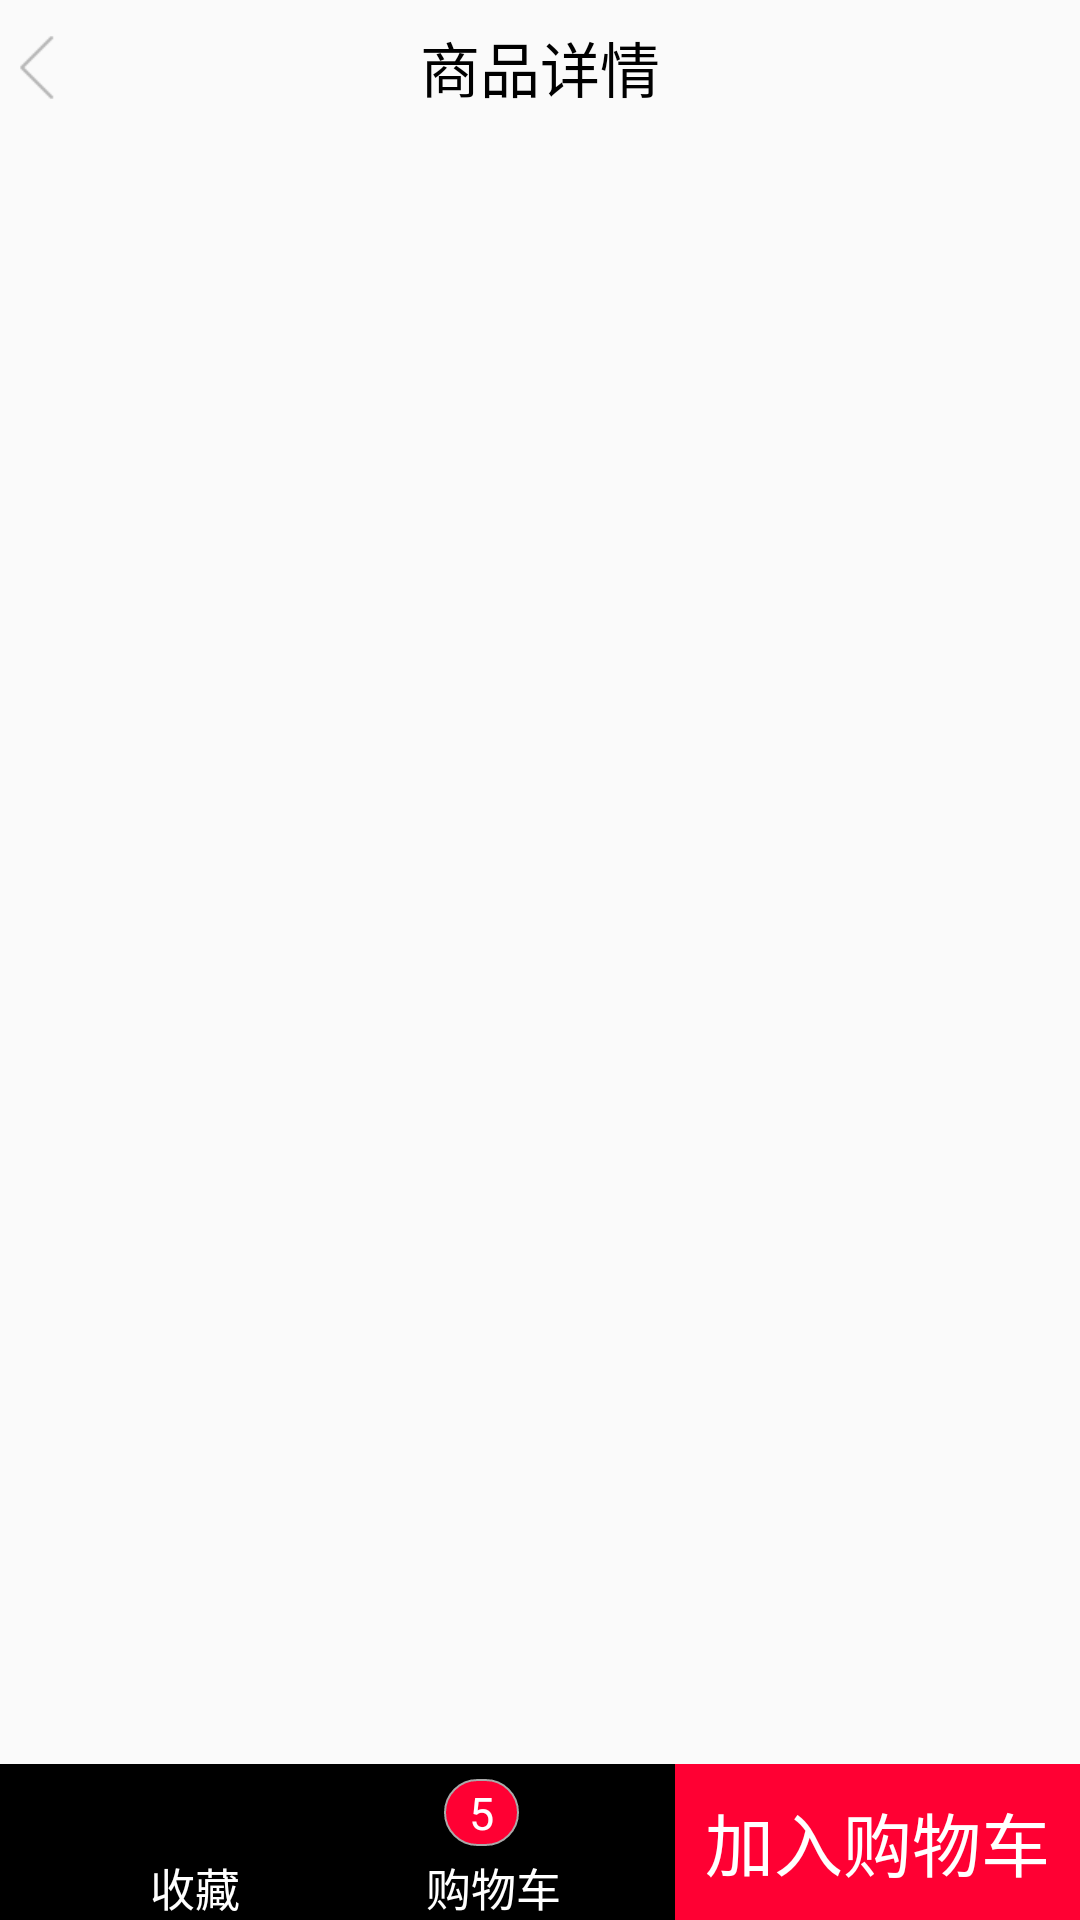

Icons on this 1080×1920 Android screen, each with the point to tap as [x,y]:
leftbackicon titlebar: [36,67]
